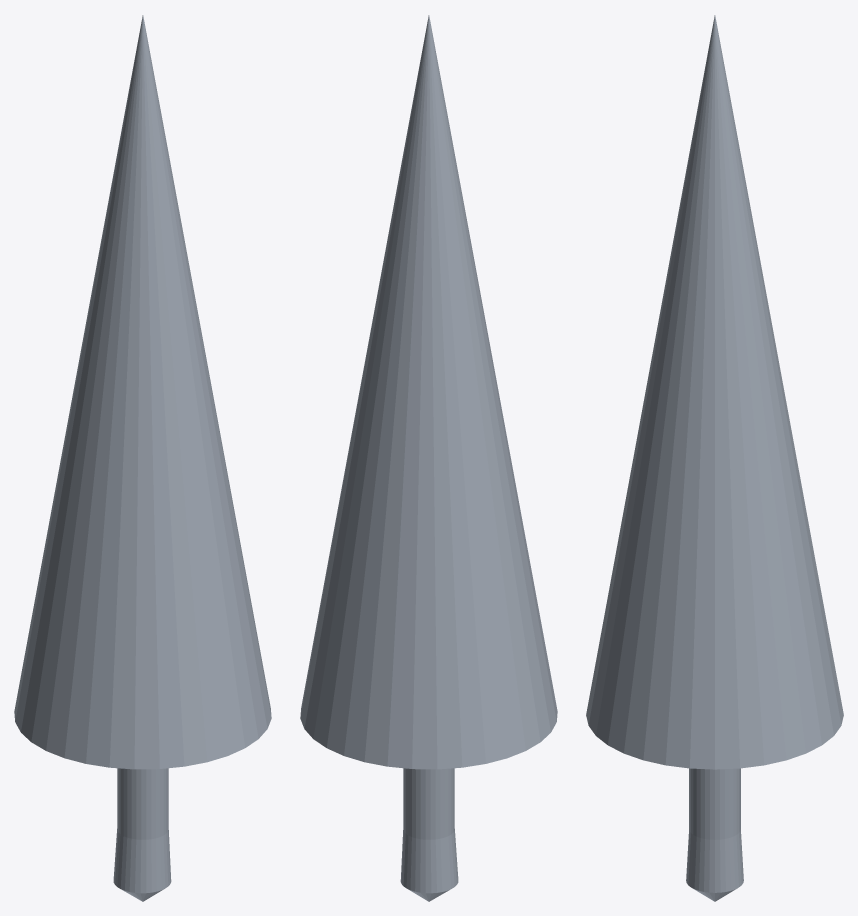
Rendered from aguijon.fbx.
3 renders of one model, left to right at view 1: azimuth 30°, elevation 25°; view 2: azimuth 150°, elevation 25°; view 3: azimuth 270°, elevation 25°, orthographic.
Parts seen in each view (by area): view 1: Cone; view 2: Cone; view 3: Cone.
Boxes of the visible parts, bbox=[...] form: Cone: bbox=[14, 15, 271, 901]; Cone: bbox=[300, 15, 557, 901]; Cone: bbox=[586, 15, 843, 901].
Bounding box in the file's own units: 8 × 30.4 × 8.
